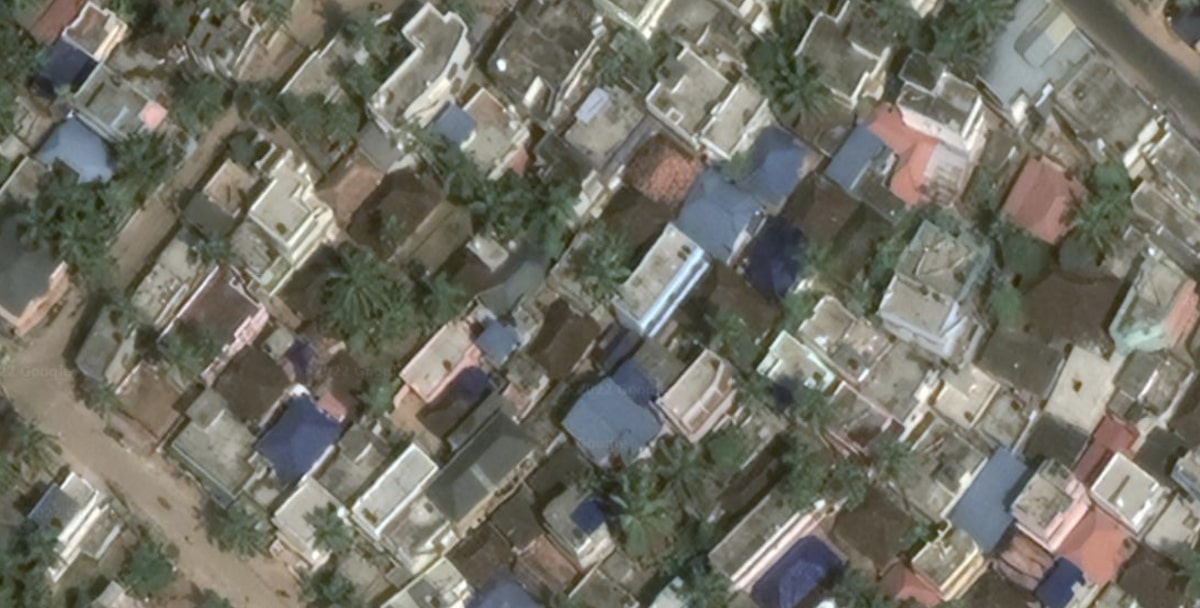coconut: (1053, 181, 1140, 262), (560, 229, 638, 310), (596, 470, 670, 551), (311, 246, 386, 322), (769, 49, 842, 124), (200, 504, 276, 568), (300, 501, 358, 555)
